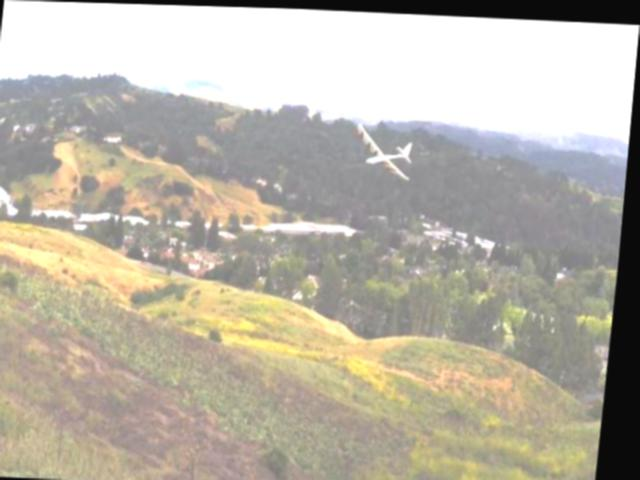iha: (354, 119, 418, 179)
